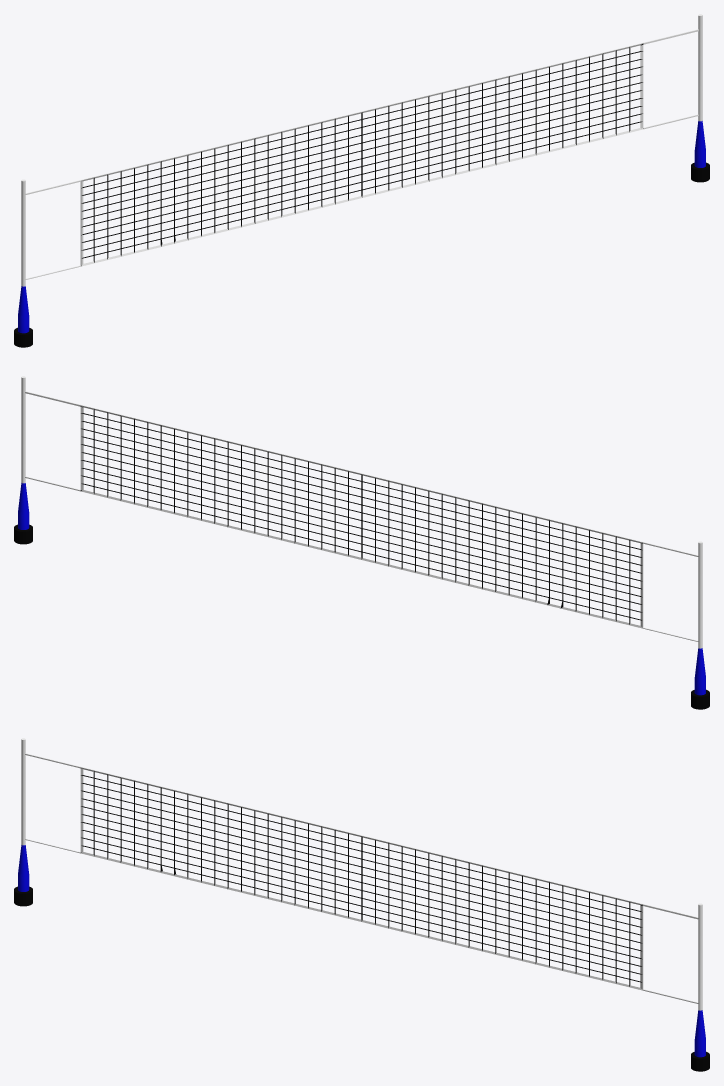
Rendered from volleyball 1.fbx.
3 views of the same model, one above another, from view 1: azimuth 30°, elevation 25°; view 2: azimuth 150°, elevation 25°; view 3: azimuth 330°, elevation 25° (orthographic).
Parts seen in each view (by area): view 1: net; view 2: net; view 3: net.
Part boxes in pixels (bbox=[...]): net: bbox=[14, 14, 709, 347]; net: bbox=[14, 376, 709, 709]; net: bbox=[14, 738, 709, 1071].
Size of what is drawn, in the model's own units: 3987 by 896 by 95.5.
